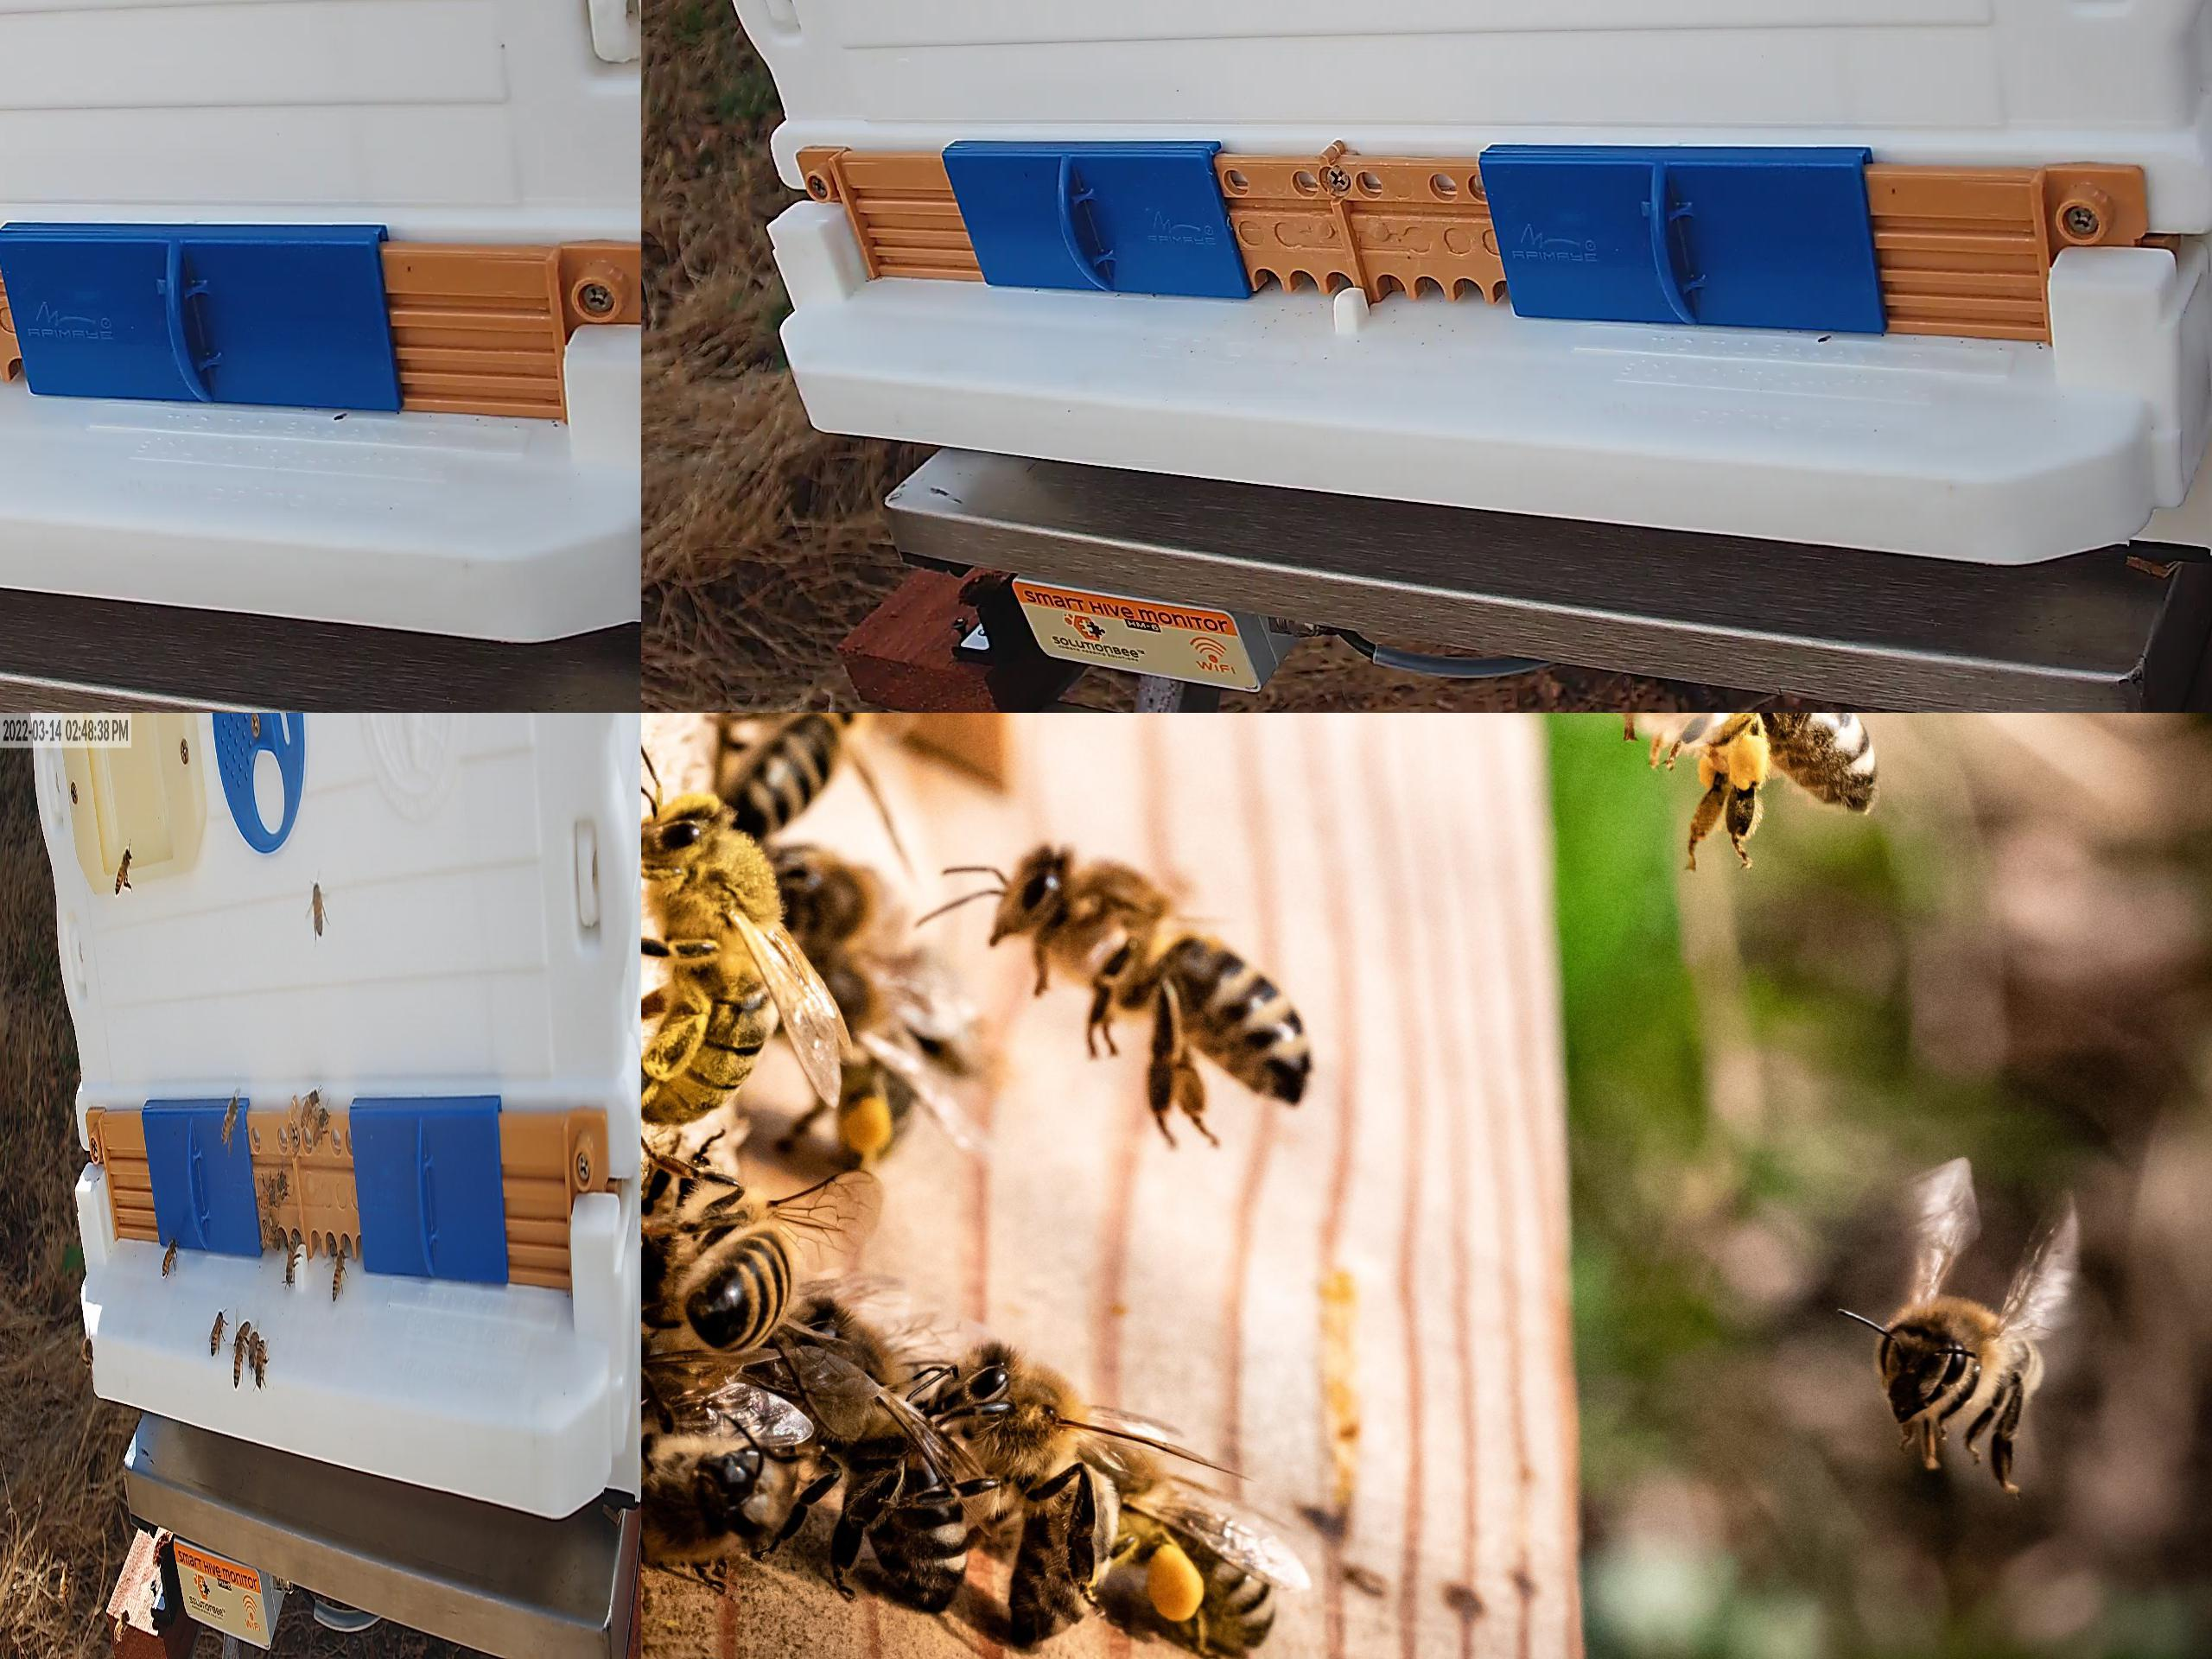bee: (998, 852, 1312, 1100), (946, 1338, 1111, 1642), (792, 1317, 960, 1612), (641, 789, 782, 1126), (653, 1211, 805, 1361), (1876, 1290, 2038, 1424), (641, 1412, 782, 1554), (730, 713, 862, 835), (869, 927, 972, 1065), (777, 849, 880, 951), (115, 847, 131, 894), (221, 1098, 237, 1145), (286, 1229, 298, 1288), (300, 1091, 319, 1127), (261, 1218, 280, 1249), (160, 1237, 176, 1276), (59, 1561, 75, 1600), (333, 1251, 345, 1300), (113, 1608, 131, 1640), (314, 884, 324, 934), (211, 1312, 223, 1354), (314, 1110, 327, 1145), (233, 1335, 242, 1389), (235, 1321, 251, 1349), (256, 1338, 265, 1387), (258, 1187, 275, 1209), (247, 1333, 258, 1368), (270, 1173, 284, 1197), (82, 1340, 94, 1361), (329, 1232, 336, 1260)
pollenbee: (1080, 1427, 1285, 1656), (1594, 713, 1872, 812), (799, 946, 923, 1169)
